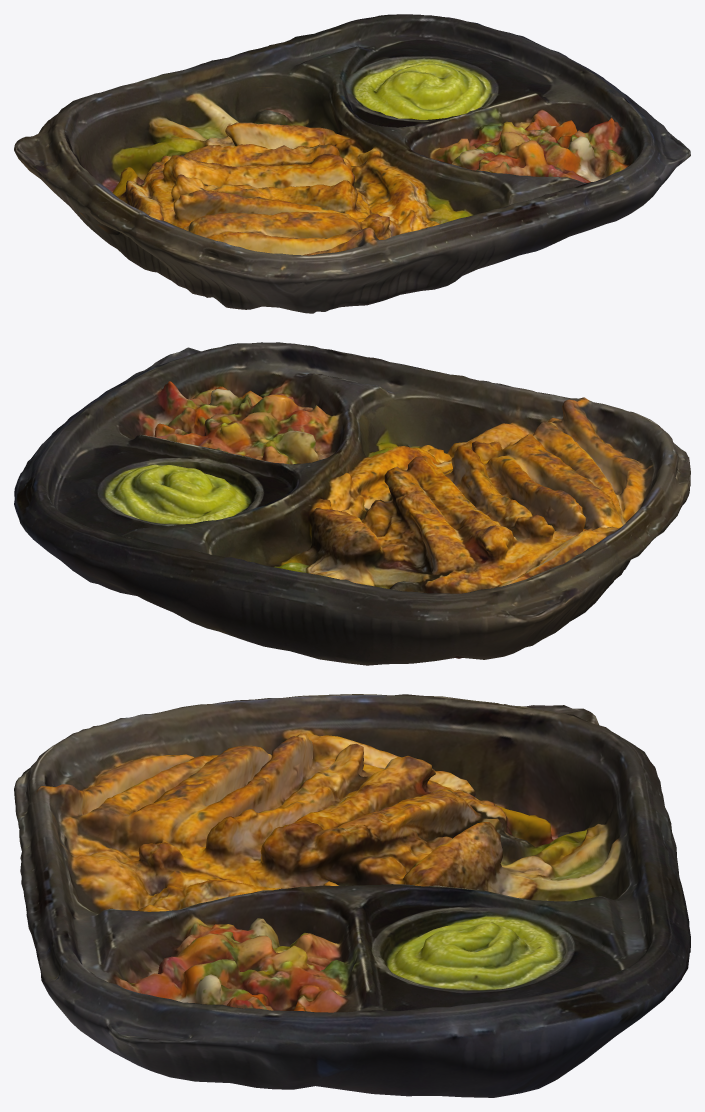
File: Healthy_Platter(Healthy_Corner_Category)_1757459996121.glb
3 renders of one model, top to bottom at view 1: azimuth 30°, elevation 25°; view 2: azimuth 150°, elevation 25°; view 3: azimuth 270°, elevation 25°, orthographic. The views are drawn at different scales.
Visible parts, largest first — view 1: 3DModel; view 2: 3DModel; view 3: 3DModel.
Boxes of the visible parts, <box> form: 3DModel: <box>14,14,690,313</box>; 3DModel: <box>14,342,690,665</box>; 3DModel: <box>14,694,690,1097</box>.
Bounding box in the file's own units: 0.2418 × 0.0452 × 0.205.
1 material, 1 textured.
